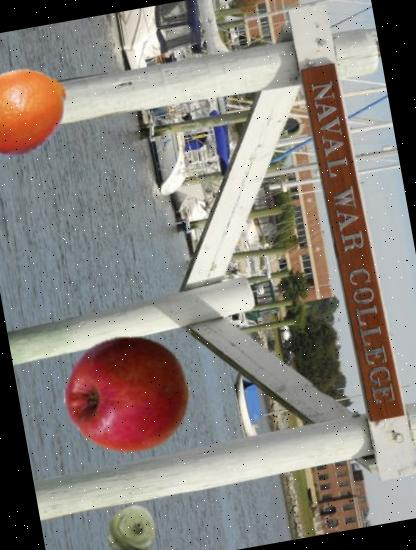Apple: (53, 321, 199, 467)
Kohlrabi: (99, 500, 160, 550)
Tangelo: (0, 53, 79, 169)
